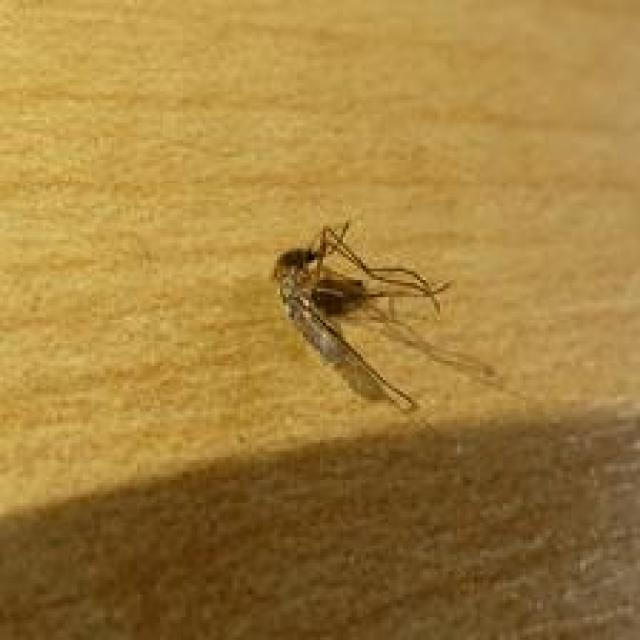Culex: (270, 217, 504, 414)
